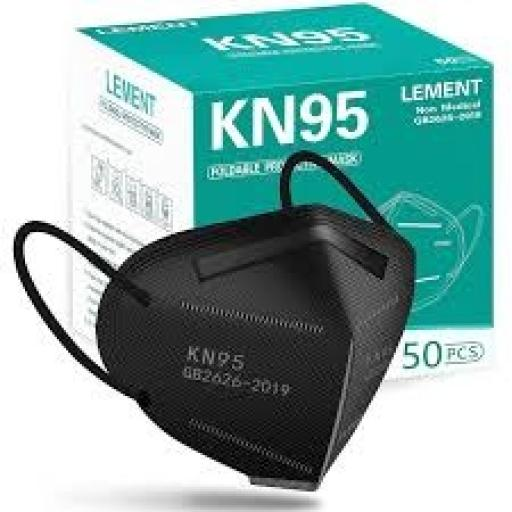mask: (89, 193, 428, 499)
